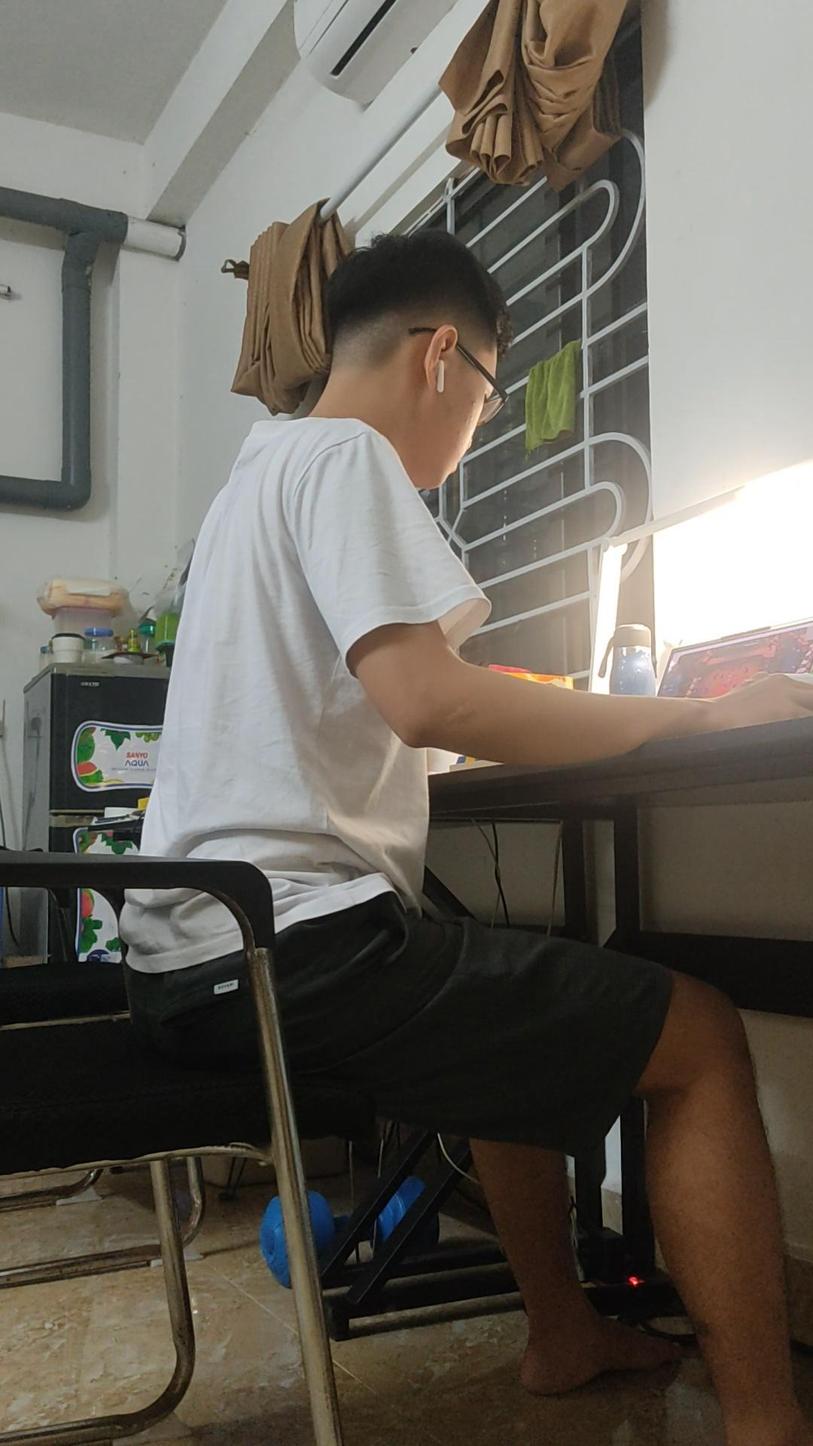GoodPosture: (143, 233, 812, 1445)
